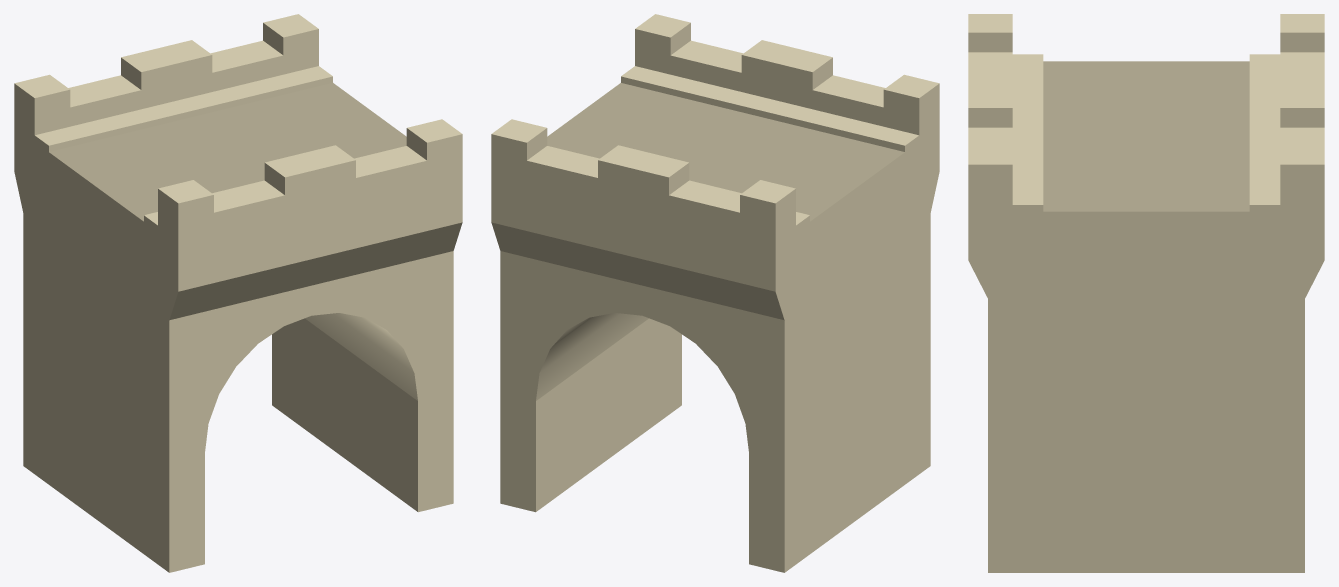
File: bridgeStraight_exclusive.fbx
3 renders of one model, left to right at view 1: azimuth 30°, elevation 25°; view 2: azimuth 150°, elevation 25°; view 3: azimuth 270°, elevation 25°, orthographic. The views are drawn at different scales.
Visible parts, largest first — view 1: bridgeStraight_exclusive; view 2: bridgeStraight_exclusive; view 3: bridgeStraight_exclusive.
Boxes of the visible parts, left/top/right/bottom form: bridgeStraight_exclusive: left=14, top=14, right=462, bottom=572; bridgeStraight_exclusive: left=491, top=14, right=939, bottom=572; bridgeStraight_exclusive: left=968, top=14, right=1324, bottom=572.
Bounding box in the file's own units: 9.3 × 11.76 × 9.3.
